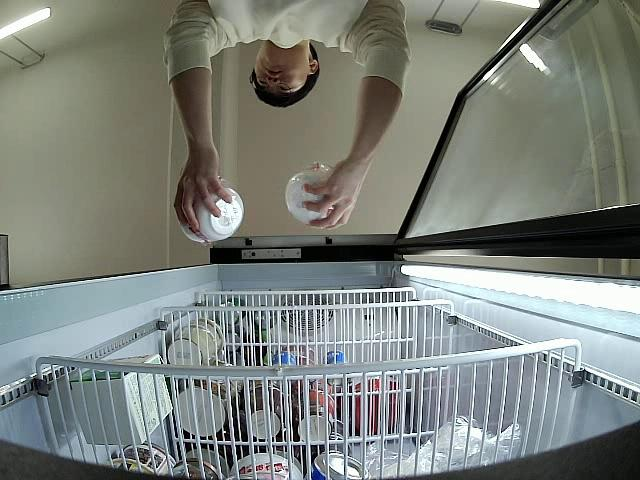00_hand: (172, 145, 231, 227), (303, 163, 365, 230)
09_yukGaeJang: (178, 178, 245, 243), (287, 169, 339, 231)
